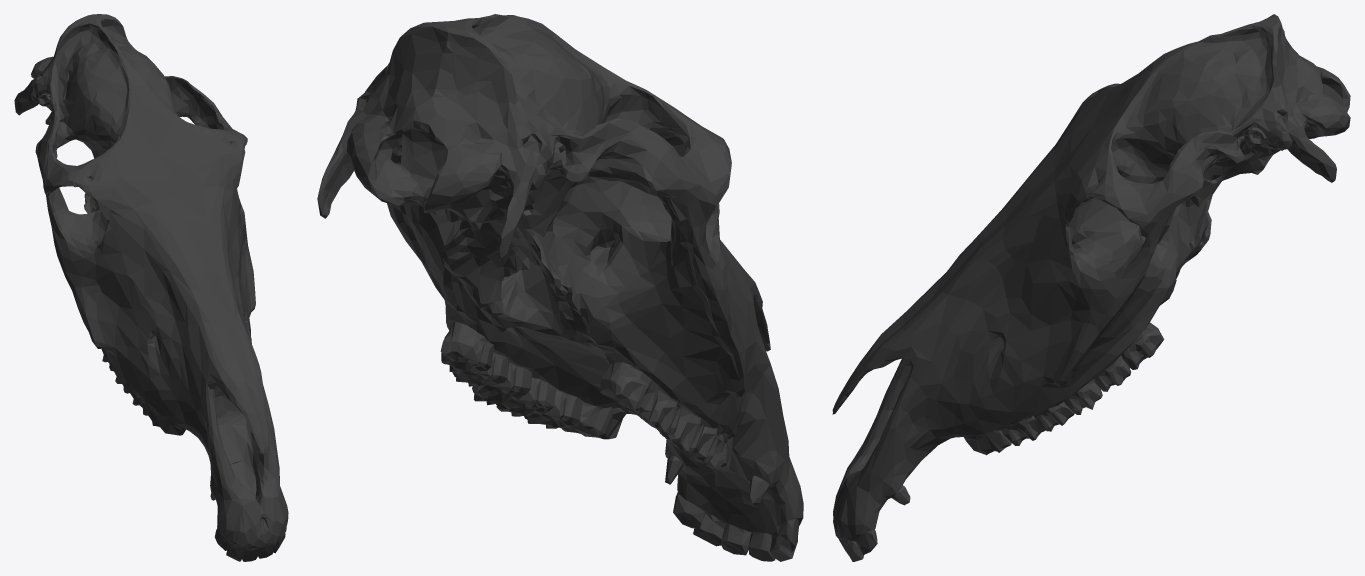
The model's file is skel_cranium.glb.
3 renders of one model, left to right at view 1: azimuth 30°, elevation 25°; view 2: azimuth 150°, elevation 25°; view 3: azimuth 270°, elevation 25°, orthographic. The views are drawn at different scales.
Visible parts, largest first — view 1: skel_cranium; view 2: skel_cranium; view 3: skel_cranium.
Part boxes in pixels (box(x1,y1,x2,y2)): skel_cranium: box(14, 14, 288, 561); skel_cranium: box(317, 14, 803, 561); skel_cranium: box(832, 14, 1350, 561).
Size of the model in its own units: 0.00349 by 0.00717 by 0.00632.
1 material, 1 textured.
